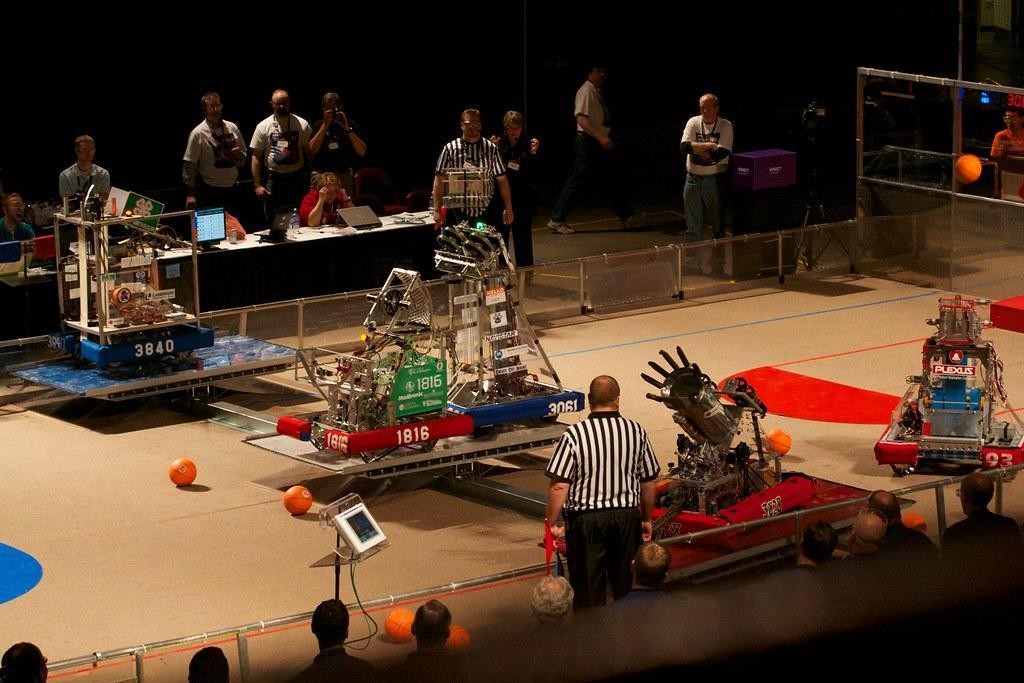robot: (273, 267, 479, 459), (636, 341, 819, 547), (427, 219, 586, 433), (39, 182, 216, 370), (872, 294, 1024, 475)
